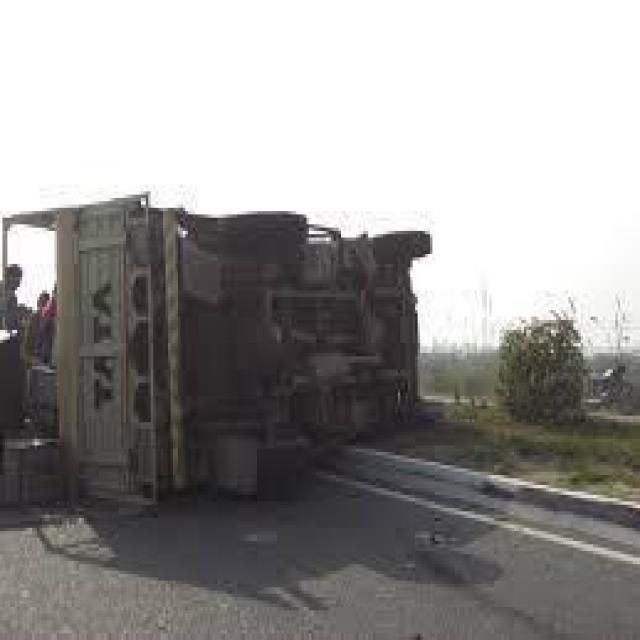accident: (2, 192, 445, 512)
